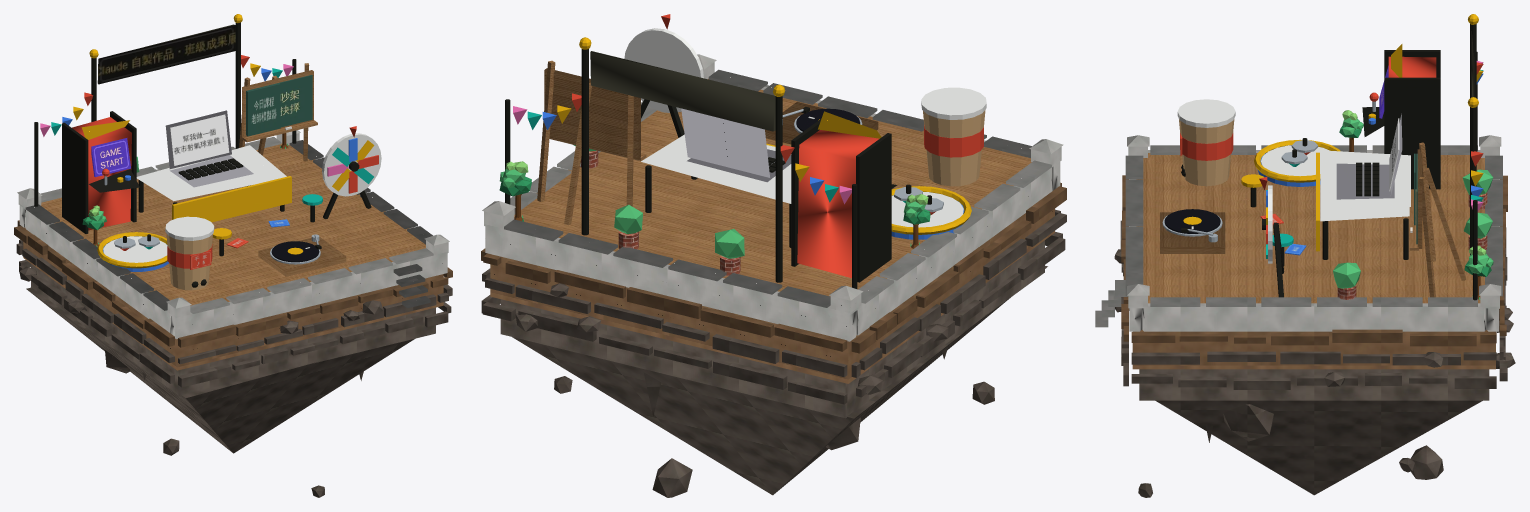
File: classfair.glb
The picture shows the model from 3 angles, left to right: view 1: azimuth 30°, elevation 25°; view 2: azimuth 150°, elevation 25°; view 3: azimuth 270°, elevation 25°; orthographic projection. The views are drawn at different scales.
Parts seen in each view (by area): view 1: classfair_accent, classfair_rock, classfair_wood, classfair_concrete, classfair_soil, classfair_sign, classfair_chat, classfair_chalk_txt2, fx_board_chalk_txt, classfair_arcade_scr; view 2: classfair_rock, classfair_accent, classfair_wood, classfair_concrete, classfair_soil, classfair_sign, classfair_brick; view 3: classfair_rock, classfair_wood, classfair_accent, classfair_concrete, classfair_soil, classfair_brick.
Boxes of the visible parts, x1,y1,x2,y2 form: classfair_accent: (34,14,381,290); classfair_rock: (16,239,452,497); classfair_wood: (41,63,425,305); classfair_concrete: (17,130,449,339); classfair_soil: (14,220,452,370); classfair_sign: (97,24,235,84); classfair_chat: (170,114,229,165); classfair_chalk_txt2: (246,75,312,135); fx_board_chalk_txt: (247,83,280,136); classfair_arcade_scr: (91,138,130,177); classfair_rock: (481,209,1066,497); classfair_accent: (499,14,986,288); classfair_wood: (514,60,1031,296); classfair_concrete: (482,54,1063,341); classfair_soil: (481,182,1066,383); classfair_sign: (590,51,775,131); classfair_brick: (580,150,740,275); classfair_rock: (1114,220,1515,497); classfair_wood: (1136,142,1491,303); classfair_accent: (1162,14,1493,300); classfair_concrete: (1095,135,1502,331); classfair_soil: (1121,175,1507,369); classfair_brick: (1337,192,1487,299).
Bounding box in the file's own units: 4.28 × 5.18 × 4.49.
Materials: 14 (14 with a texture image).
